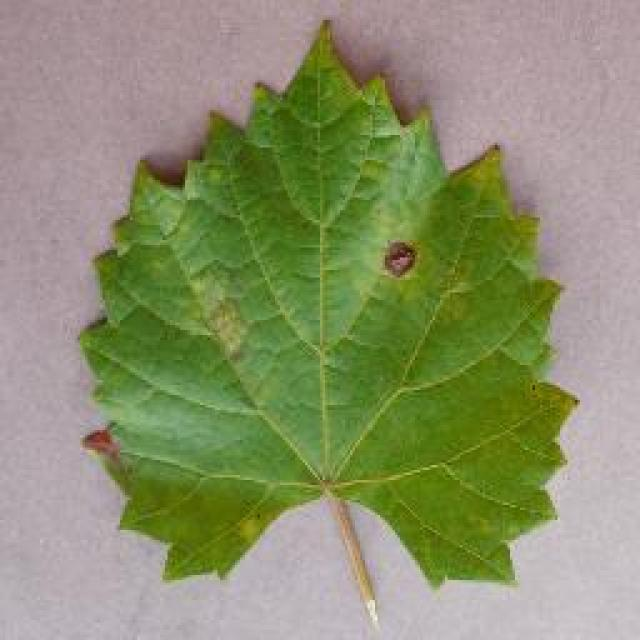Grape___Black_rot: (76, 15, 585, 628)
